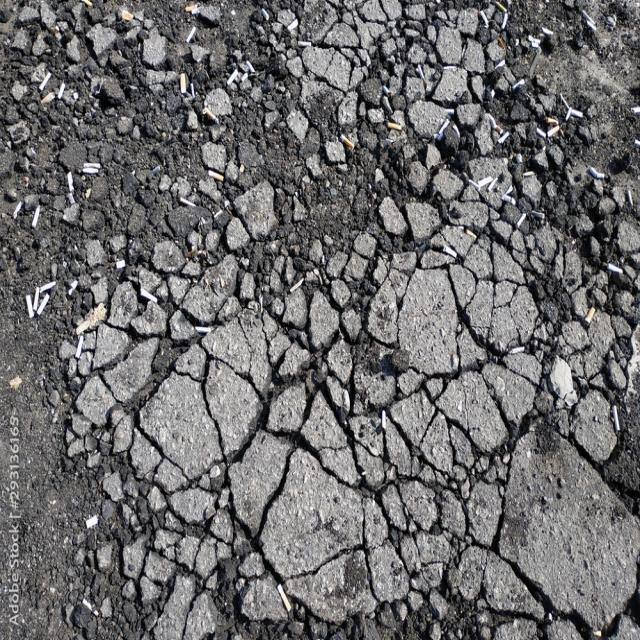Drain Hole: (110, 179, 640, 599)
